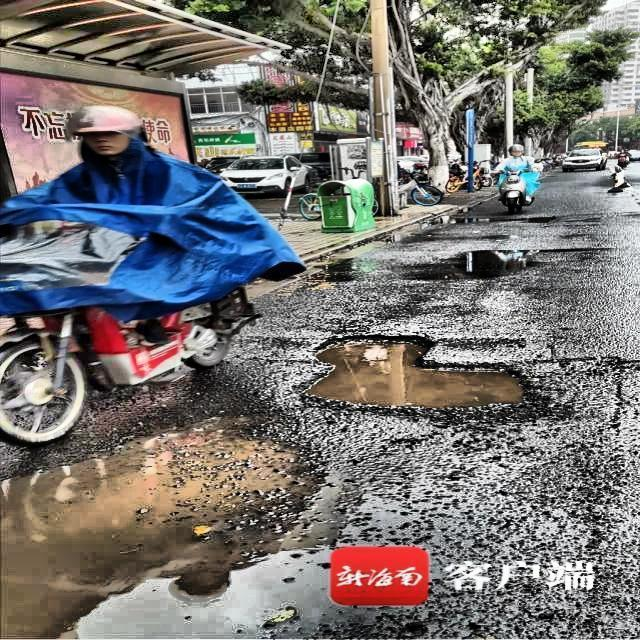buraco: (61, 427, 370, 622), (294, 332, 562, 420), (432, 246, 552, 286)
